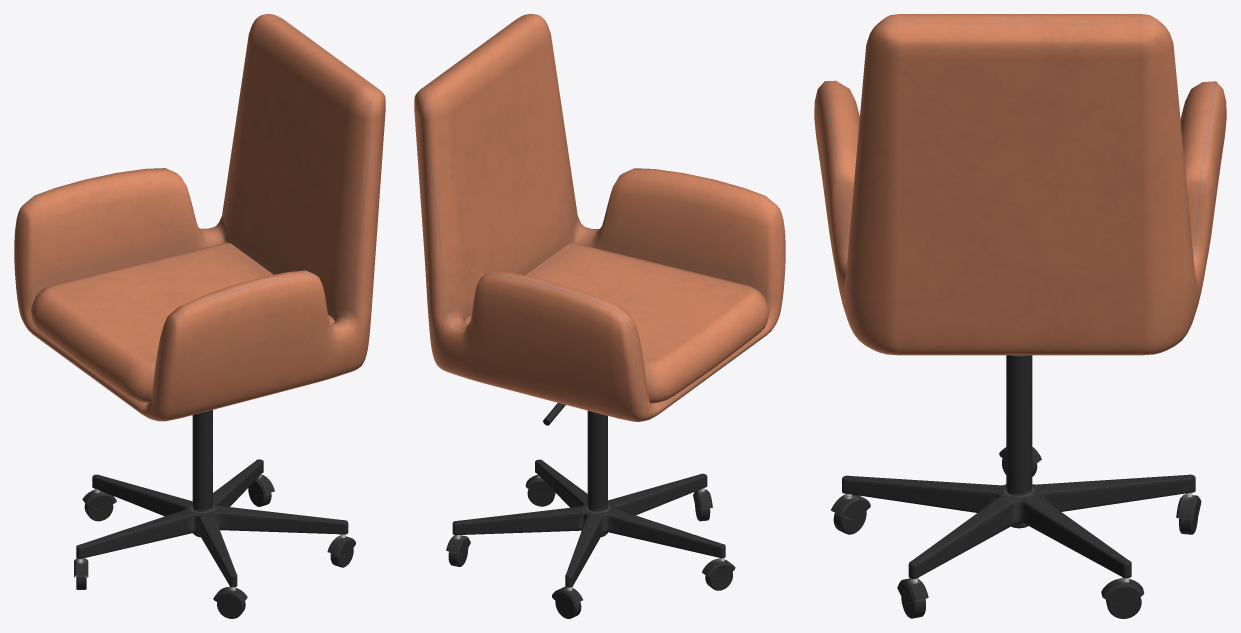
Rendered from SM_OrangeOfficeChairLeather.fbx.
The picture shows the model from 3 angles, left to right: view 1: azimuth 30°, elevation 25°; view 2: azimuth 150°, elevation 25°; view 3: azimuth 270°, elevation 25°; orthographic projection. The views are drawn at different scales.
Parts seen in each view (by area): view 1: SM_OrangeOfficeChairLeather_LOD0; view 2: SM_OrangeOfficeChairLeather_LOD0; view 3: SM_OrangeOfficeChairLeather_LOD0.
Part boxes in pixels (<box>): SM_OrangeOfficeChairLeather_LOD0: <box>14,14,385,618</box>; SM_OrangeOfficeChairLeather_LOD0: <box>414,14,785,618</box>; SM_OrangeOfficeChairLeather_LOD0: <box>814,14,1226,618</box>.
Size of the model in its own units: 72.72 by 76.75 by 125.
Materials: 1 (1 with a texture image).
